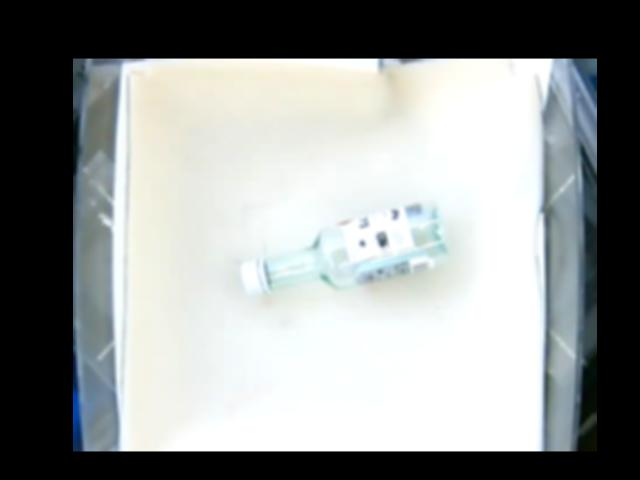Bottle: (238, 201, 449, 300)
